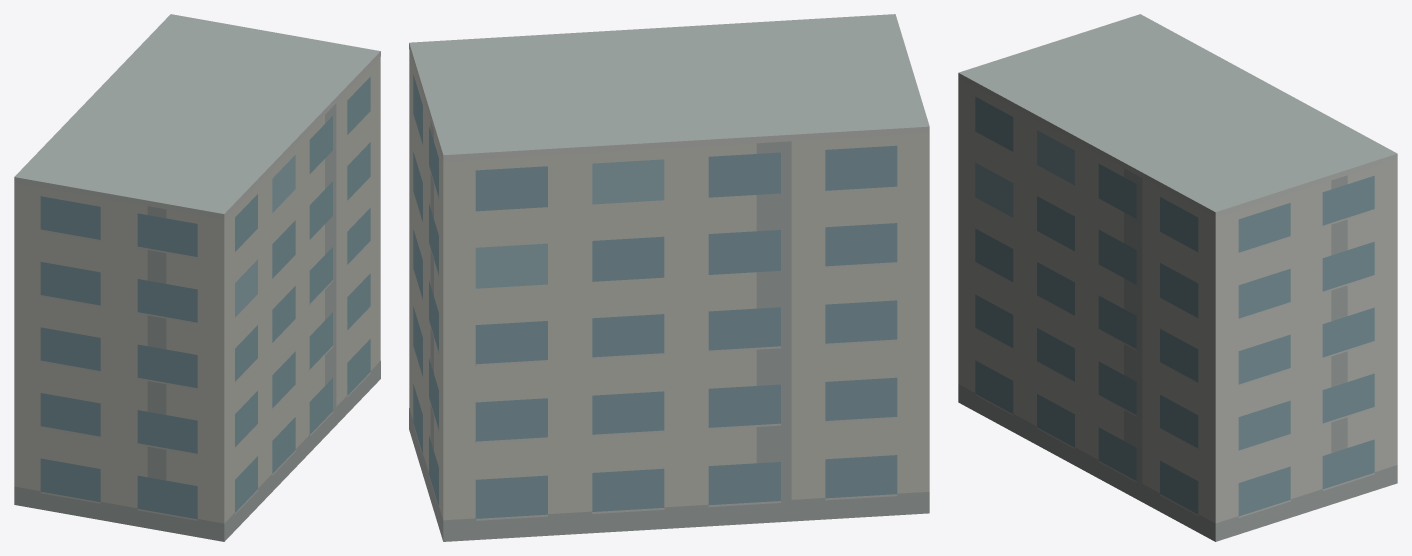
The model's file is survey-upis-32915210.glb.
3 views of the same model, side by side, from view 1: azimuth 30°, elevation 25°; view 2: azimuth 150°, elevation 25°; view 3: azimuth 270°, elevation 25° (orthographic). The views are drawn at different scales.
Visible parts, largest first — view 1: survey-upis-32915210.tmp; view 2: survey-upis-32915210.tmp; view 3: survey-upis-32915210.tmp.
Boxes of the visible parts, x1=… form: survey-upis-32915210.tmp: x1=14, y1=14, x2=380, y2=541; survey-upis-32915210.tmp: x1=409, y1=14, x2=929, y2=541; survey-upis-32915210.tmp: x1=958, y1=14, x2=1397, y2=541.
Bounding box in the file's own units: 18.64 × 14.45 × 17.46.
